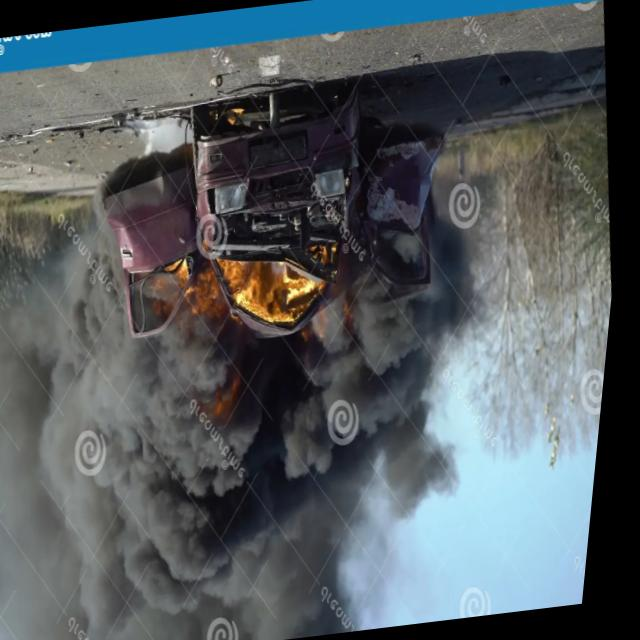Fire: (165, 236, 353, 358)
